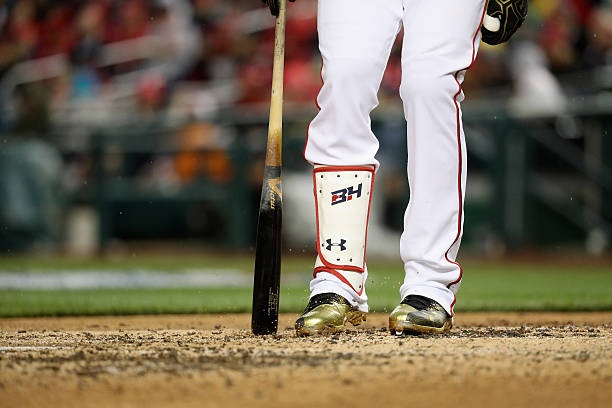bita: (252, 2, 291, 334)
